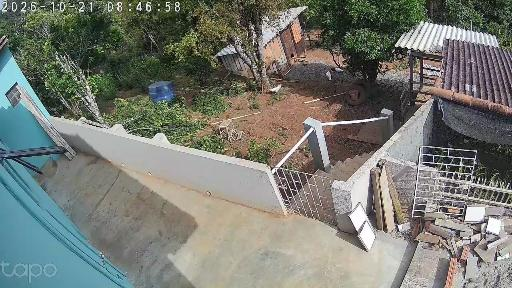galo: (269, 83, 282, 98)
pato: (334, 66, 344, 73), (326, 71, 332, 81)
